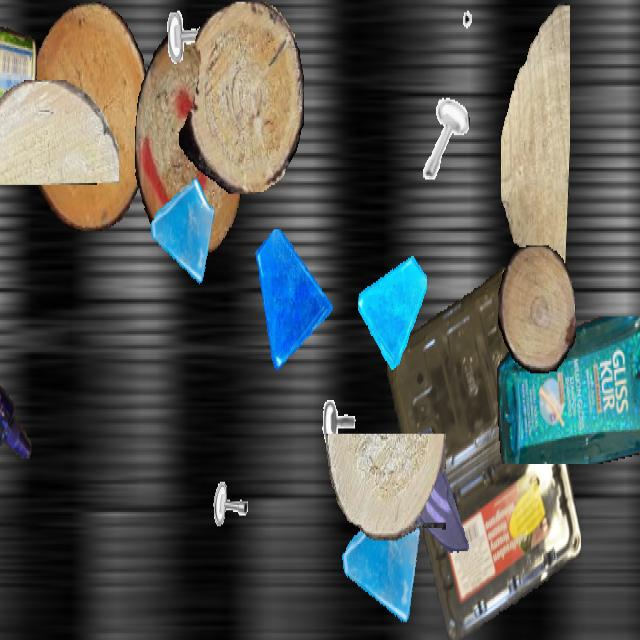glass: (340, 489, 424, 638), (253, 230, 333, 372), (394, 416, 474, 558), (149, 172, 217, 294), (358, 247, 426, 368)
metal: (161, 2, 221, 108), (207, 439, 259, 532), (419, 92, 469, 182), (320, 366, 366, 448), (462, 2, 502, 73)
plastic: (387, 265, 581, 638), (497, 316, 640, 462), (0, 2, 36, 126), (0, 327, 31, 459)
wood: (27, 2, 151, 229), (179, 2, 303, 194), (135, 36, 243, 252), (501, 1, 569, 282), (326, 434, 446, 540), (0, 80, 118, 183), (498, 245, 576, 374)
